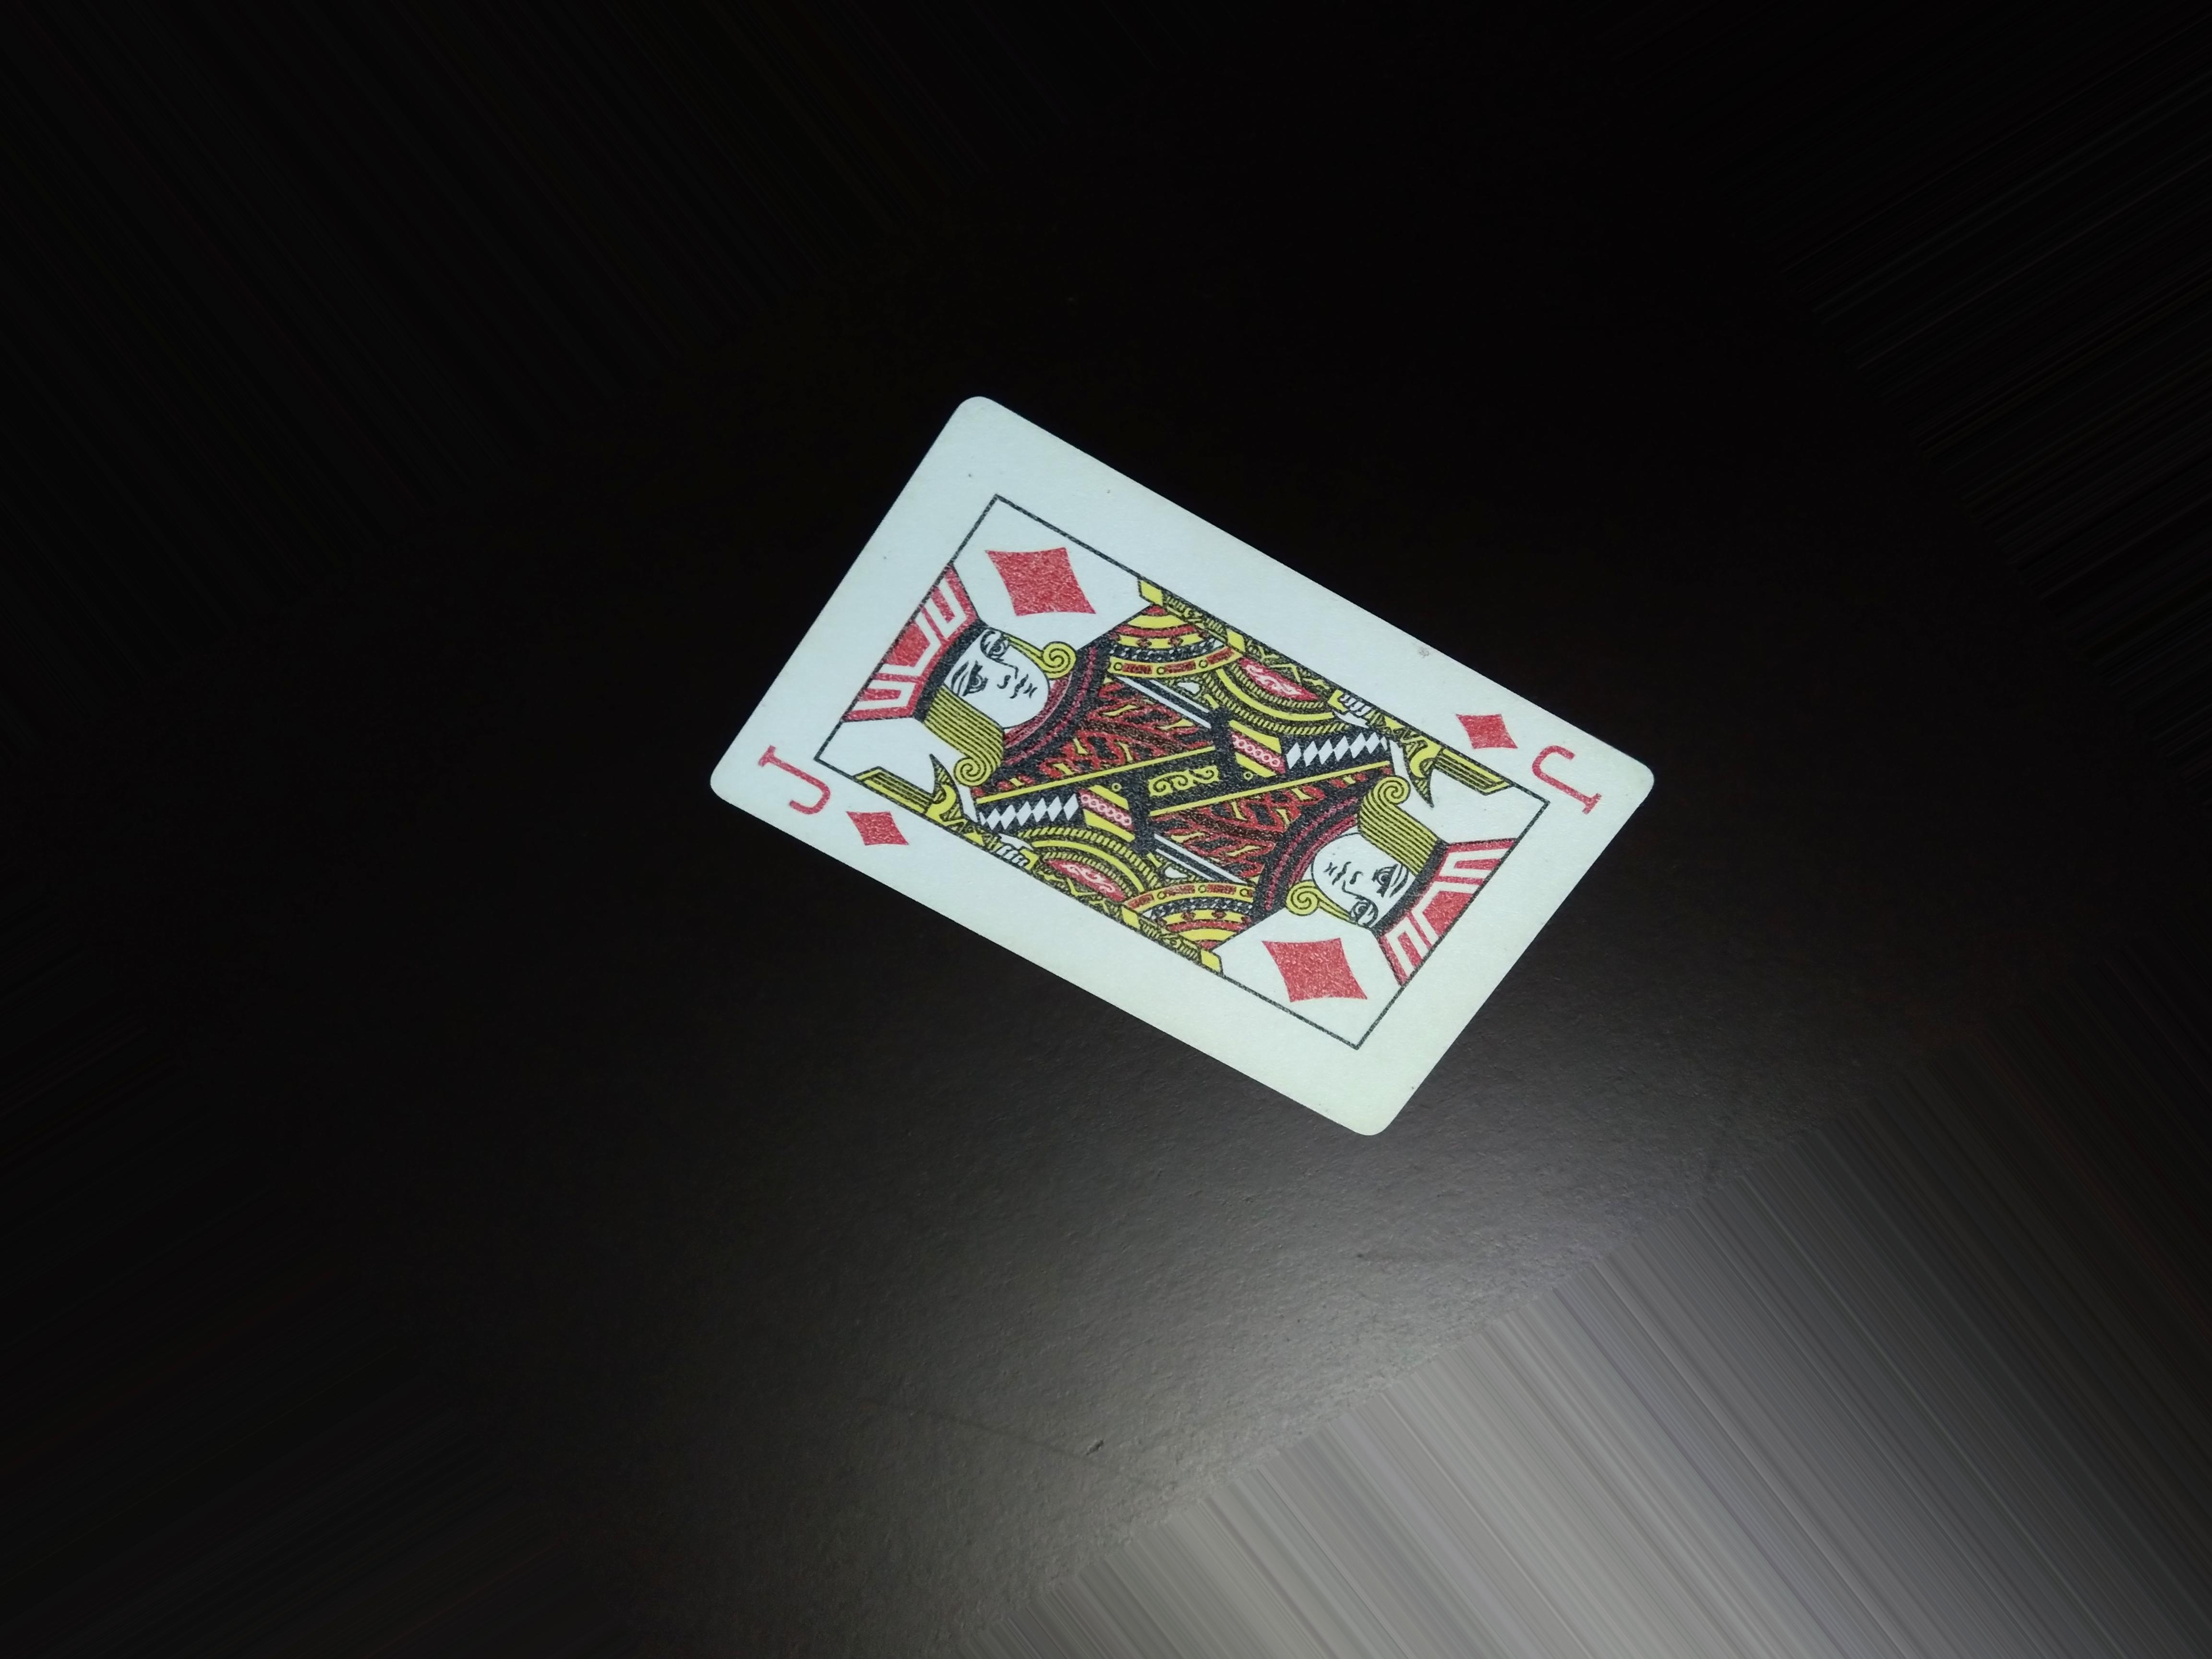JD: (1449, 706, 1615, 814)
